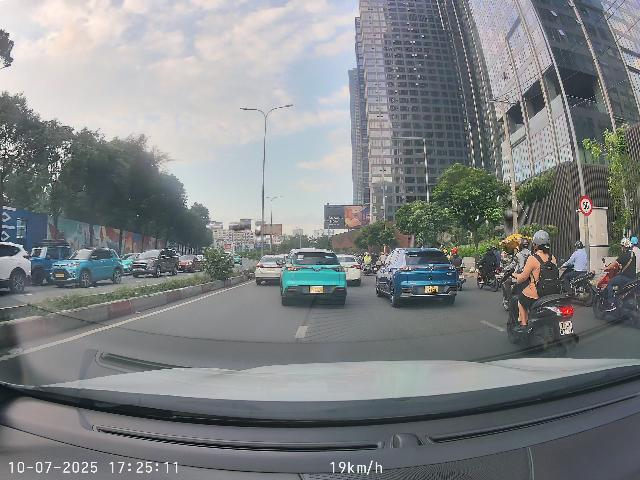127-toc-do-toi-da-60: (579, 196, 593, 216)
